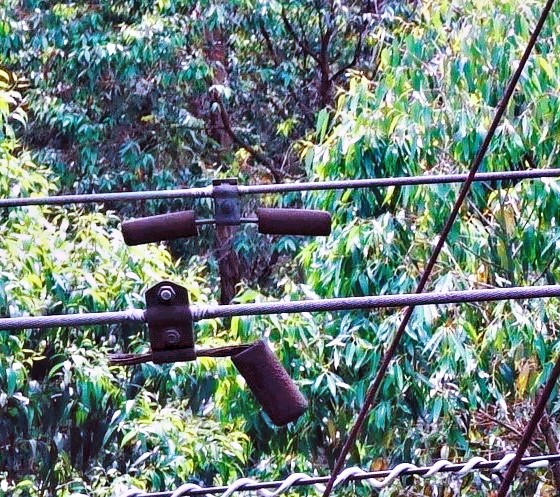Damage of shockproof hammer: (106, 270, 314, 430)
